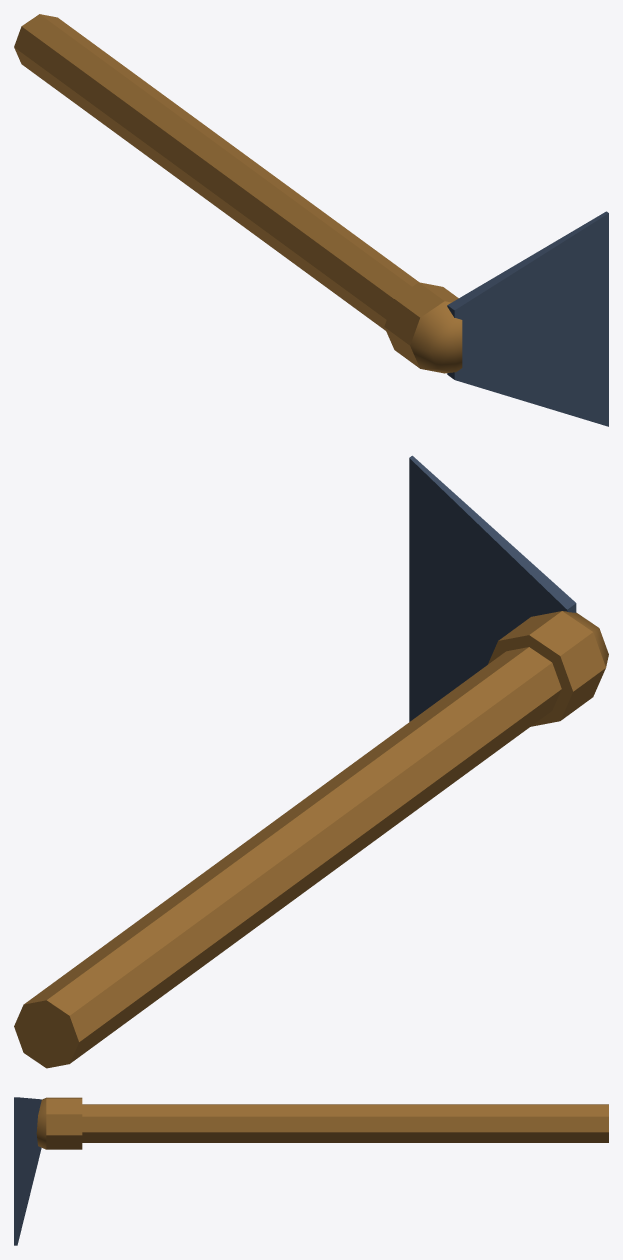
The model's file is Gregor.fbx.
The picture shows the model from 3 angles, top to bottom: view 1: azimuth 30°, elevation 25°; view 2: azimuth 150°, elevation 25°; view 3: azimuth 270°, elevation 25°; orthographic projection. The views are drawn at different scales.
Parts seen in each view (by area): view 1: pCylinder13, pCube55; view 2: pCylinder13, pCube55; view 3: pCylinder13, pCube55.
Boxes of the visible parts, x1,y1,x2,y2 form: pCylinder13: (14,14,462,373); pCube55: (447,211,608,426); pCylinder13: (14,611,608,1068); pCube55: (409,455,576,721); pCylinder13: (36,1097,608,1149); pCube55: (14,1097,41,1245).
Bounding box in the file's own units: 0.6191 × 0.7205 × 2.62.
